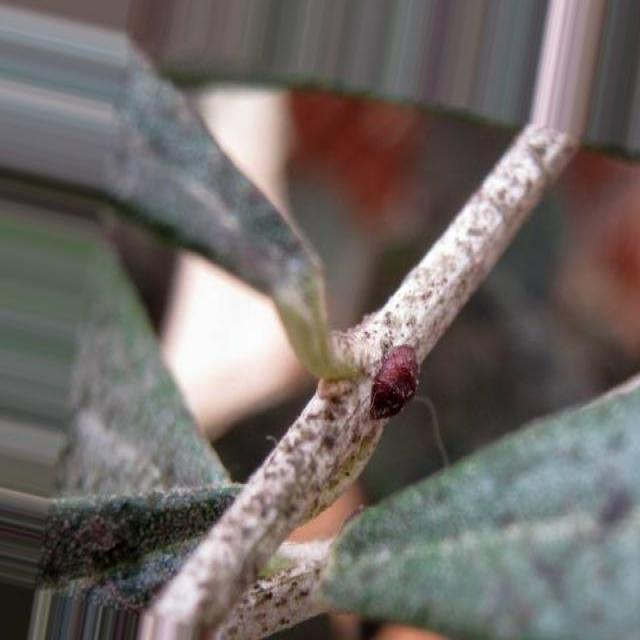BlackScale: (369, 344, 415, 419)
